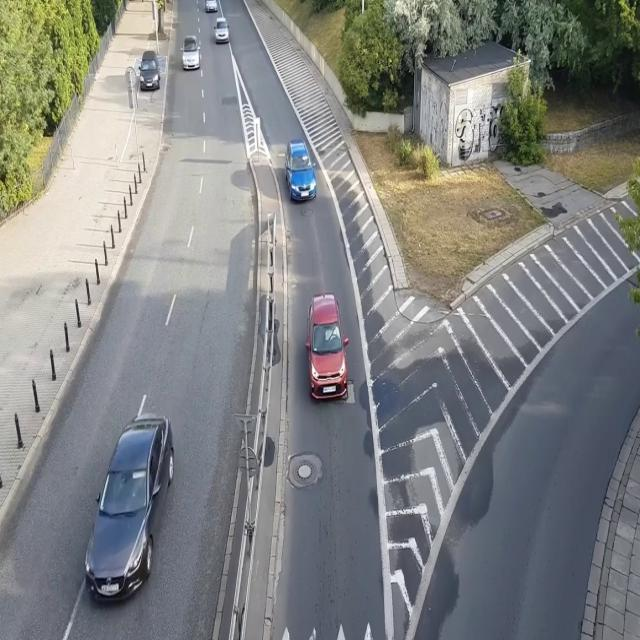car: (82, 412, 175, 604), (303, 293, 351, 408), (283, 138, 317, 203), (138, 49, 161, 92), (180, 34, 200, 72), (213, 15, 230, 46), (204, 0, 218, 13)
